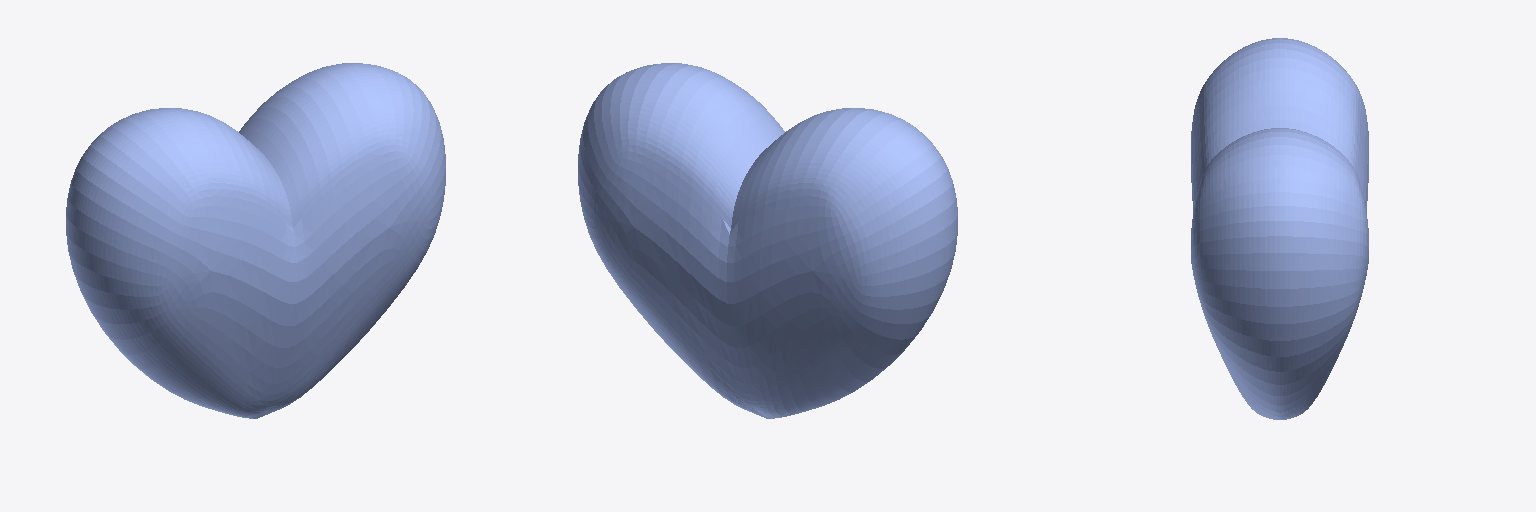
File: blue-heart.obj
The picture shows the model from 3 angles: view 1: azimuth 30°, elevation 25°; view 2: azimuth 150°, elevation 25°; view 3: azimuth 270°, elevation 25°; orthographic projection.
Visible parts, largest first — view 1: Heart_HighPoly:Mesh; view 2: Heart_HighPoly:Mesh; view 3: Heart_HighPoly:Mesh.
Boxes of the visible parts, <box> form: Heart_HighPoly:Mesh: <box>66,63,445,418</box>; Heart_HighPoly:Mesh: <box>578,63,957,418</box>; Heart_HighPoly:Mesh: <box>1191,38,1368,419</box>.
Size of the model in its own units: 4.53 by 3.93 by 1.95.